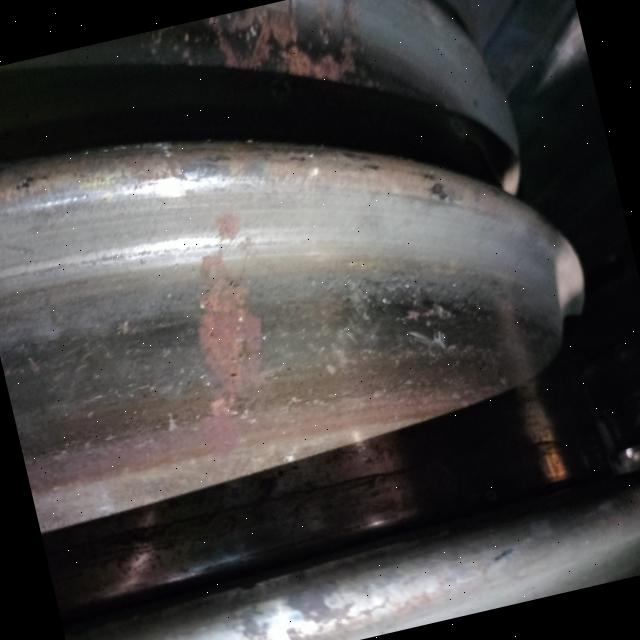Peeling: (366, 267, 517, 406)
flat: (27, 390, 383, 522)
